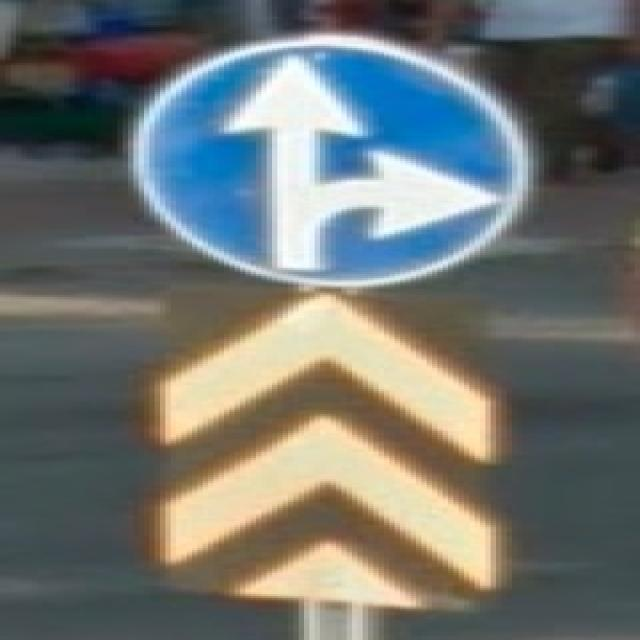Straight or Right: (129, 35, 518, 279)
